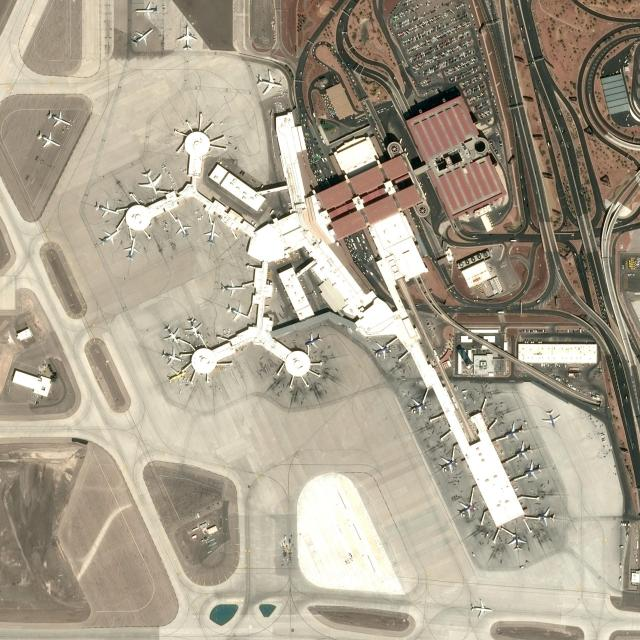aircraft: (254, 68, 282, 94), (175, 22, 199, 50), (138, 167, 162, 195), (469, 597, 492, 618), (129, 26, 153, 46), (220, 278, 246, 296), (46, 110, 72, 127), (93, 200, 119, 217), (160, 345, 182, 365), (134, 1, 158, 19), (36, 130, 60, 148), (122, 237, 140, 261), (226, 302, 250, 320), (203, 219, 219, 244), (506, 532, 526, 552), (536, 506, 556, 526), (542, 406, 560, 428), (98, 228, 121, 245), (372, 340, 391, 360), (523, 459, 542, 479), (173, 216, 190, 238), (166, 367, 188, 384), (407, 396, 426, 415), (438, 454, 457, 473), (184, 317, 202, 337), (162, 323, 180, 343), (303, 331, 323, 349), (456, 500, 476, 518), (504, 421, 524, 439), (514, 439, 534, 457)
